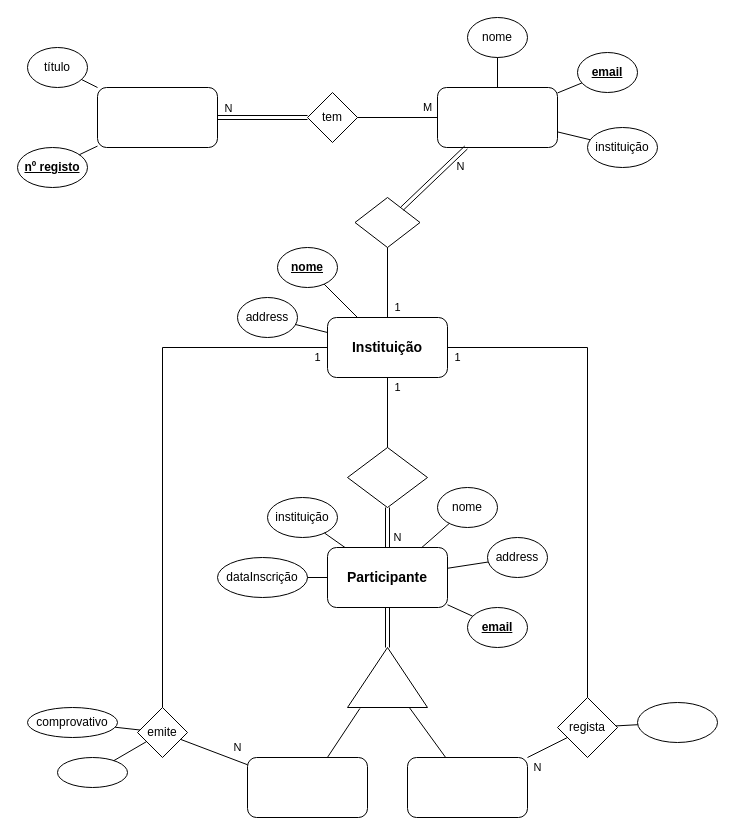
This 735x835 diagram has some shape labels left out. Each missing label, with the centre of its shape:
"afiliado a" goes at pixel 387 222.
"Artigo" goes at pixel 157 117.
"Autor" goes at pixel 497 117.
"Estudante" goes at pixel 307 787.
"IS-A" goes at pixel 387 677.
"localização" goes at pixel 92 772.
"Não Estudante" goes at pixel 467 787.
"pertence a" goes at pixel 387 477.
"ref. transação bancária" goes at pixel 677 722.
